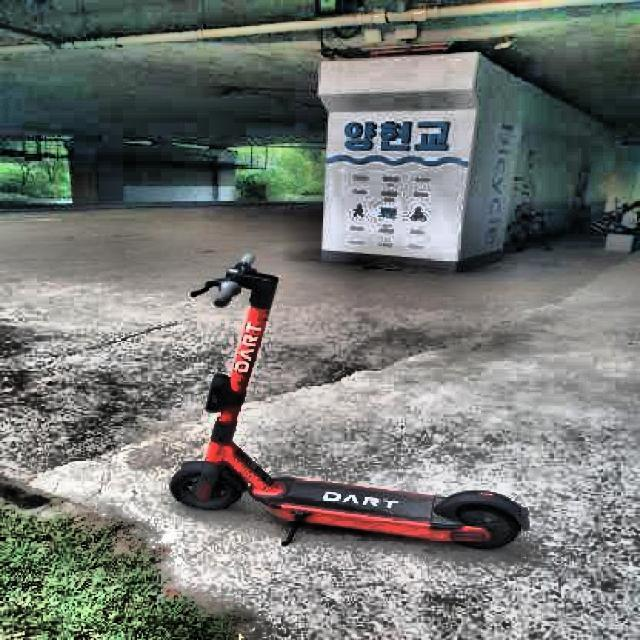bike: (168, 253, 532, 550), (508, 199, 553, 252)
